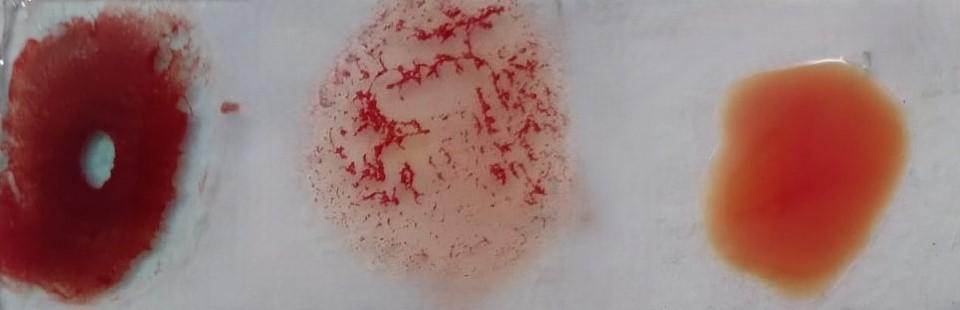A: (6, 7, 215, 304)
D: (317, 0, 565, 300)
